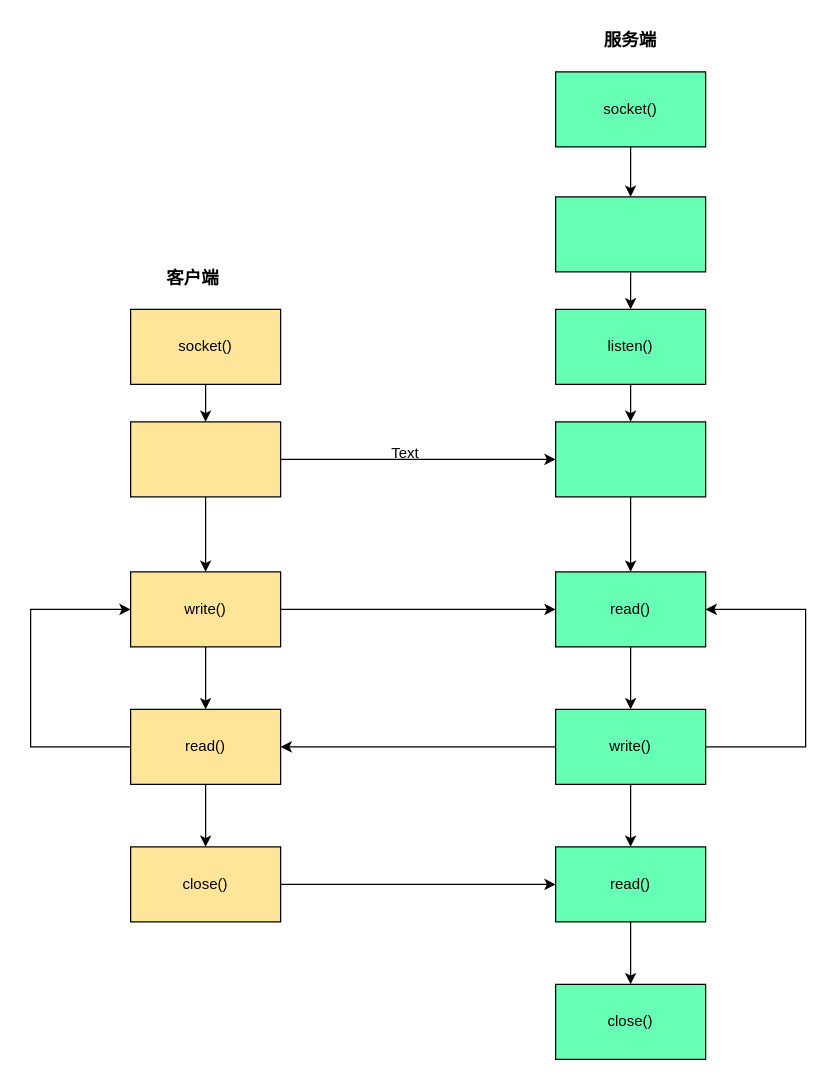
Image size: 838x1081. Some labels were removed from this diagram. The shapes that lost their labels are listed below. From the top down, each one's centre as x and y in pixels, then its label:
point 630,234: bind()
point 205,459: connect()
point 630,459: accept()
